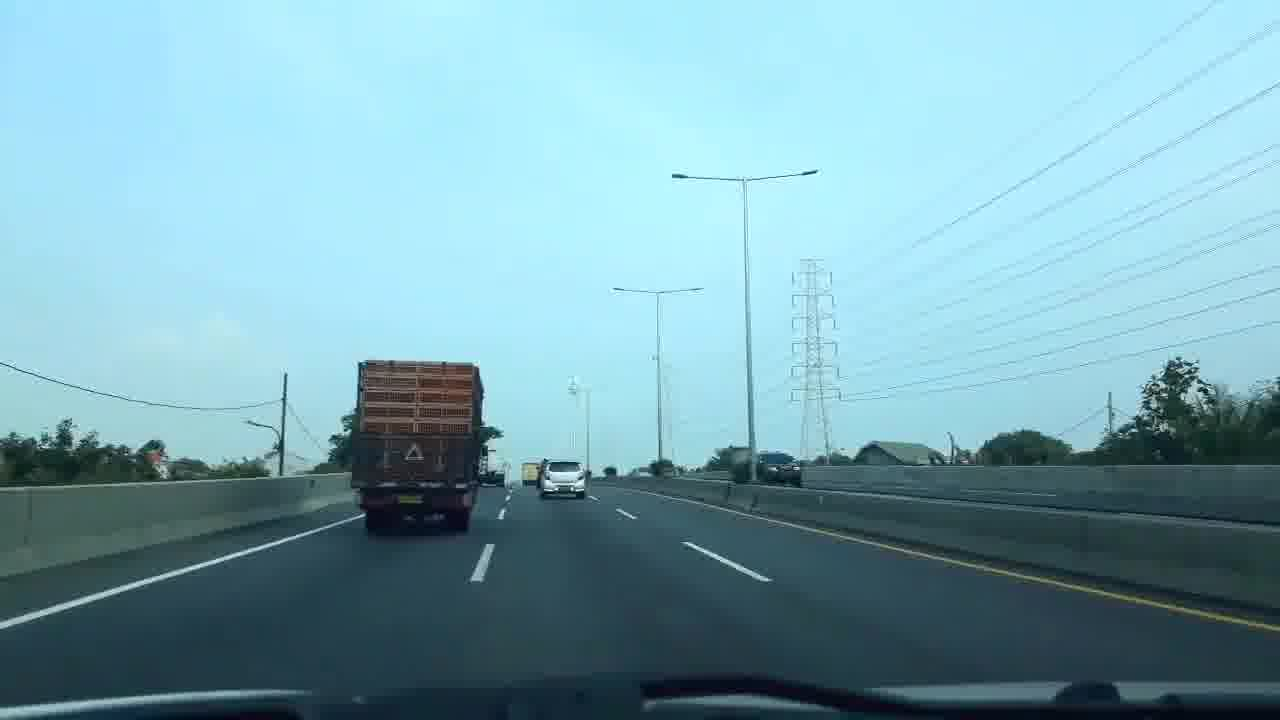plate_positive: (397, 495, 424, 504), (559, 486, 571, 492)
